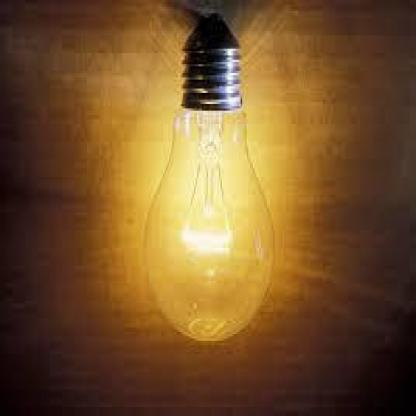other: (139, 121, 274, 306)
